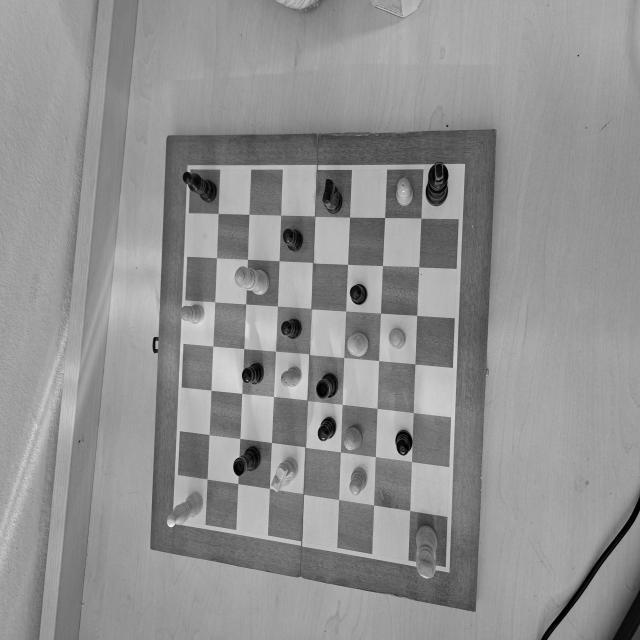chess-table-corners: (182, 158, 200, 181), (452, 159, 469, 181), (167, 510, 183, 530), (438, 557, 452, 577)
